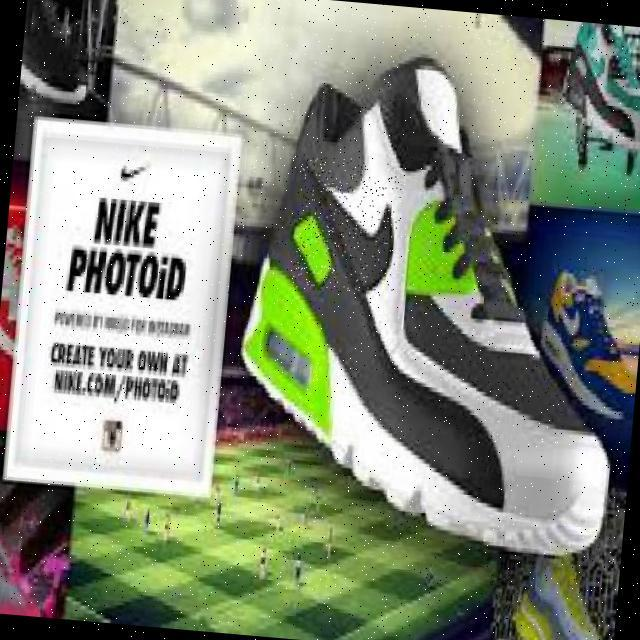Nike: (291, 154, 404, 296), (116, 150, 147, 183)
